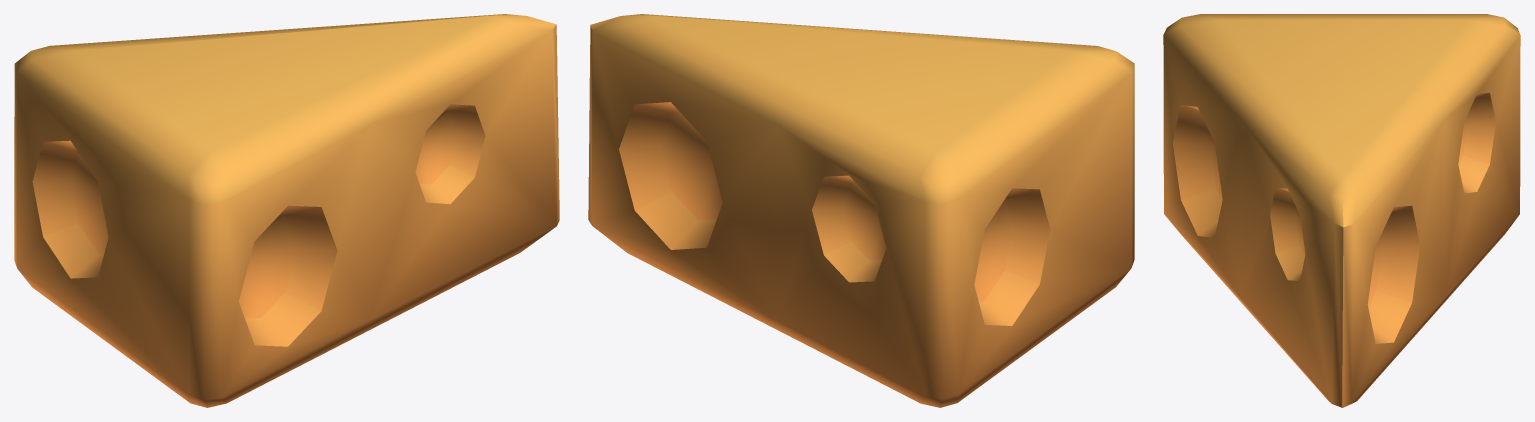
Rendered from kay-food_ingredient_cheese.glb.
3 views of the same model, side by side, from view 1: azimuth 30°, elevation 25°; view 2: azimuth 150°, elevation 25°; view 3: azimuth 270°, elevation 25° (orthographic). The views are drawn at different scales.
Visible parts, largest first — view 1: food_ingredient_cheese; view 2: food_ingredient_cheese; view 3: food_ingredient_cheese.
Part boxes in pixels (x1,y1,x2,y2): food_ingredient_cheese: (14,14,559,407); food_ingredient_cheese: (588,14,1134,407); food_ingredient_cheese: (1163,14,1520,407).
Size of the model in its own units: 0.22 by 0.1126 by 0.1626.
Materials: 1 (1 with a texture image).
